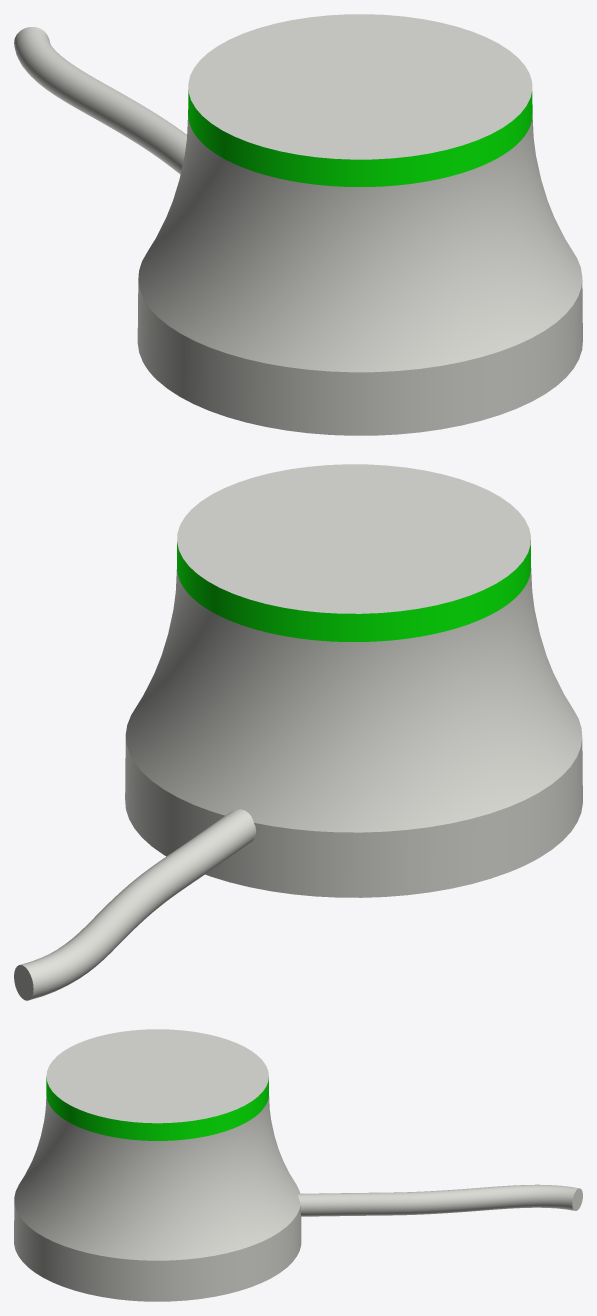
3 renders of one model, top to bottom at view 1: azimuth 30°, elevation 25°; view 2: azimuth 150°, elevation 25°; view 3: azimuth 270°, elevation 25°, orthographic. The views are drawn at different scales.
Visible parts, largest first — view 1: base; view 2: base; view 3: base.
Part boxes in pixels (x1,y1,x2,y2): base: (14,14,582,435); base: (14,464,582,1000); base: (14,1029,582,1301).
Size of the model in its own units: 150 by 297 by 94.7.
